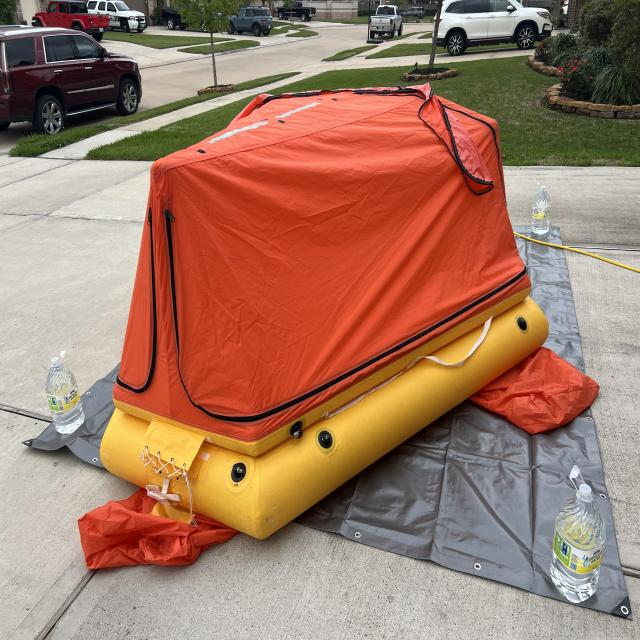Multi-person_life_raft: (79, 81, 600, 570)
